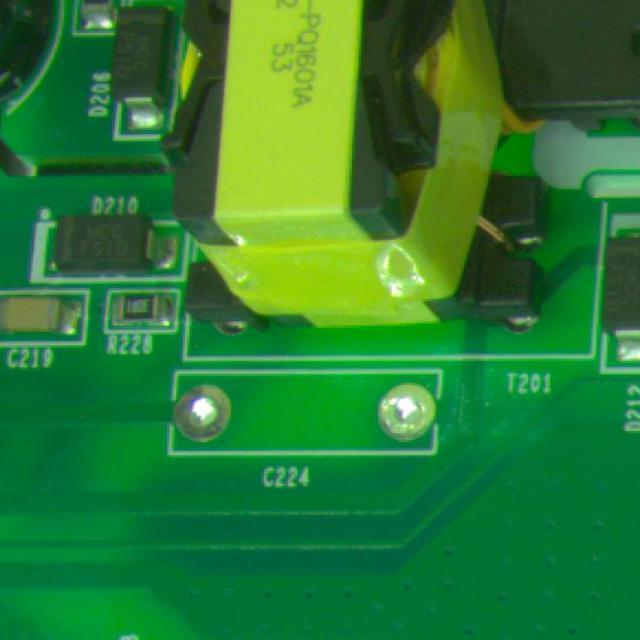Insufficient solder: (165, 379, 240, 444), (374, 374, 436, 444)
